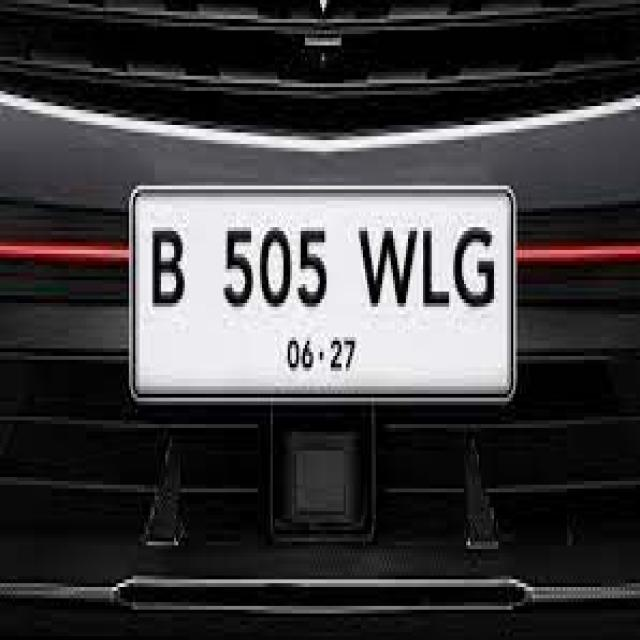lisence-plate: (123, 164, 523, 420)
